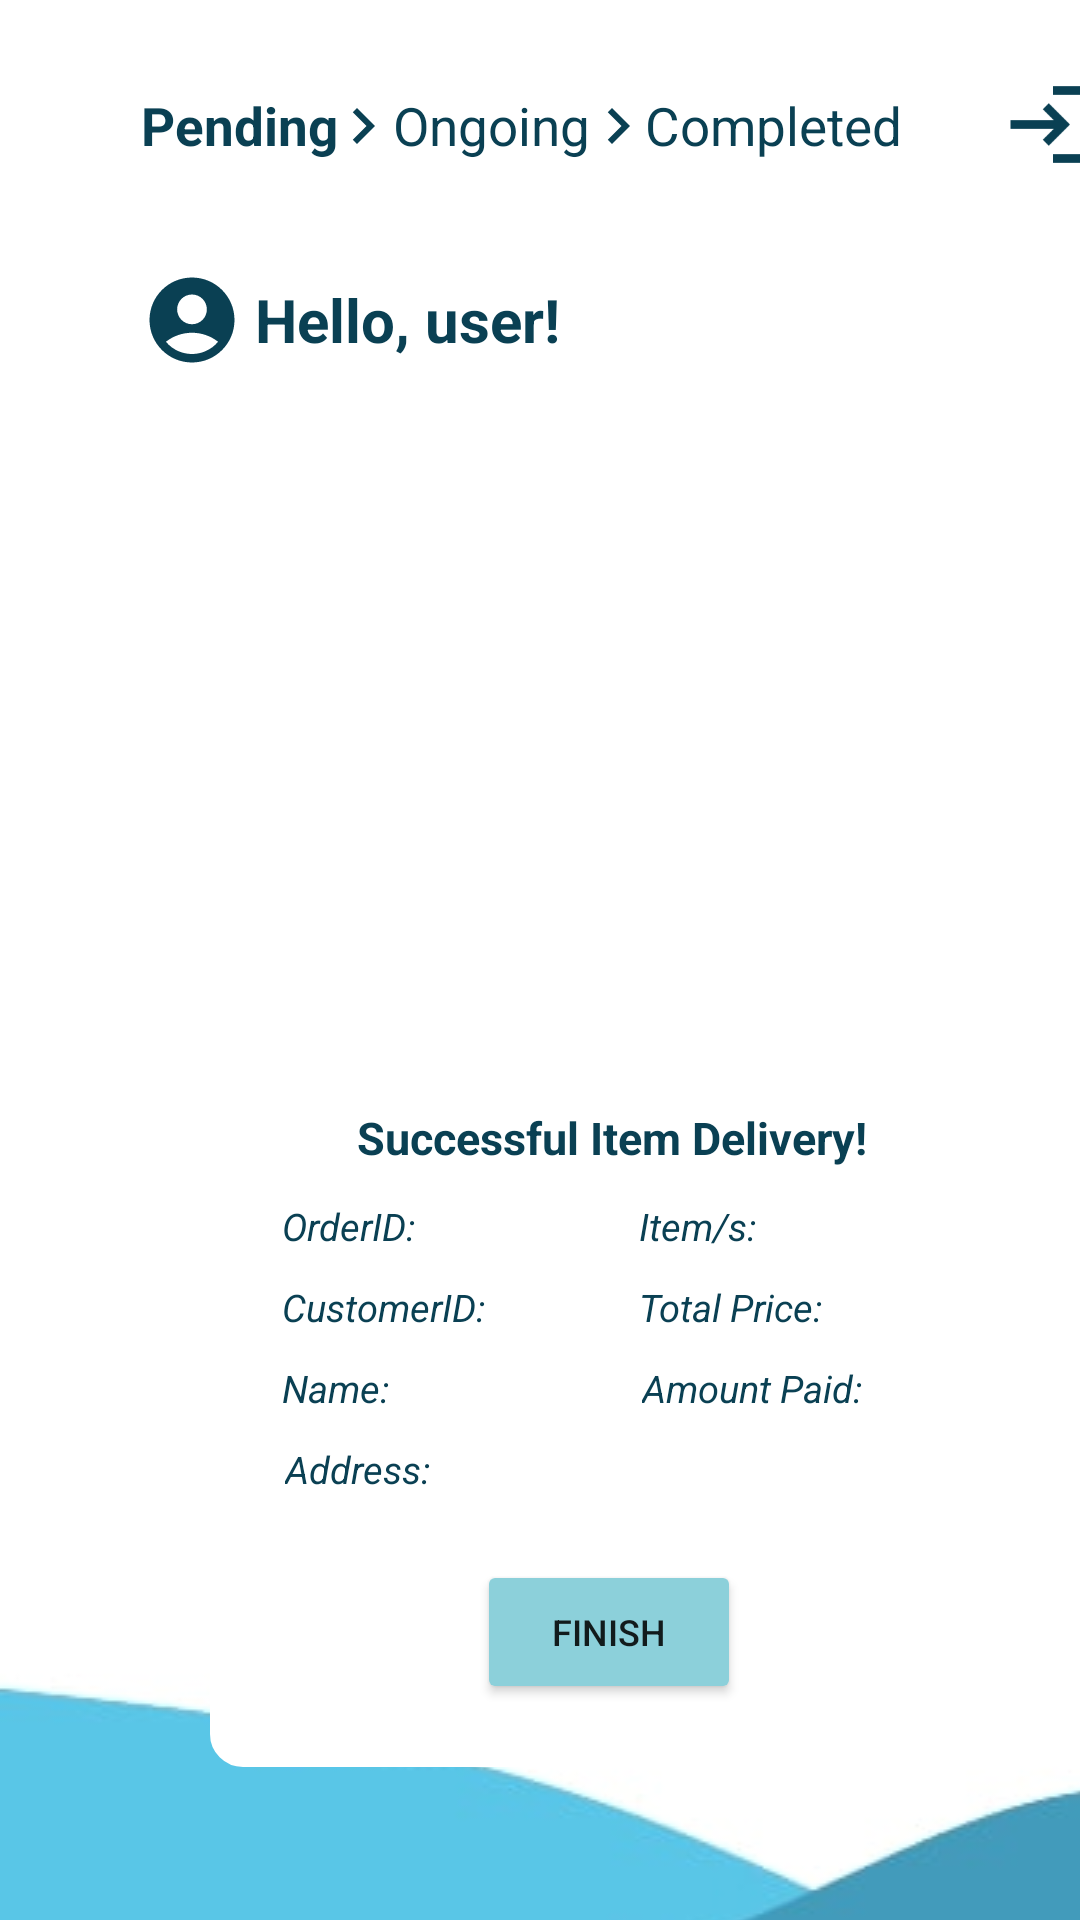

Where to tap for icons on this 1080 x 1920 app screen, as (x,y):
account circle: (192,320)
